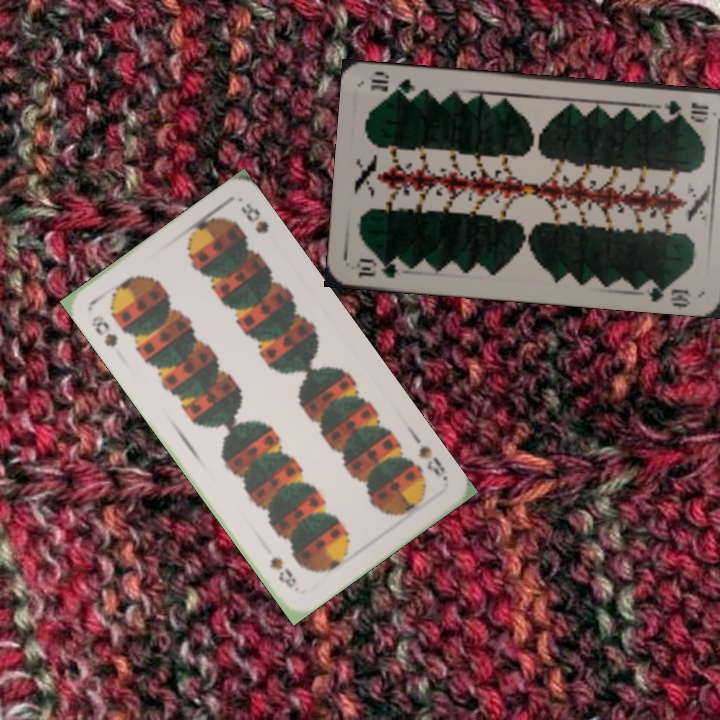G10: (660, 96, 712, 122), (352, 254, 401, 281)
S8: (414, 441, 450, 484), (87, 311, 121, 350)
